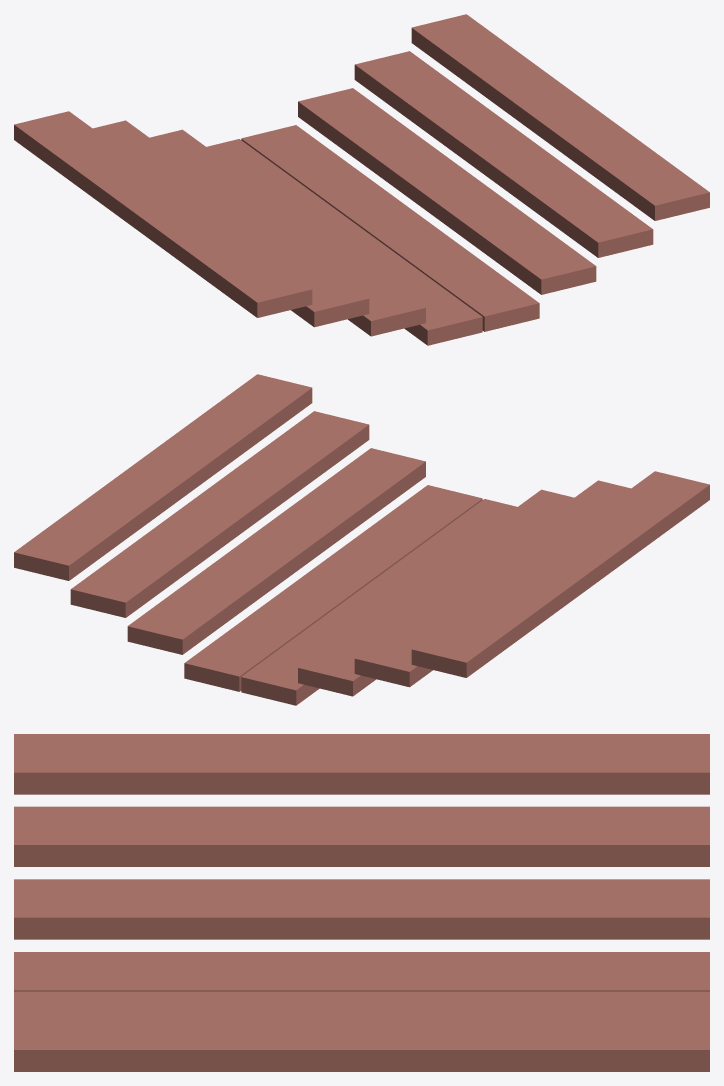
The model's file is iz2_roof_flat_parapet.glb.
3 views of the same model, one above another, from view 1: azimuth 30°, elevation 25°; view 2: azimuth 150°, elevation 25°; view 3: azimuth 270°, elevation 25° (orthographic). The views are drawn at different scales.
Visible parts, largest first — view 1: roof_06, roof_00, roof_05, roof_07, roof_04, roof_01, roof_03, roof_02; view 2: roof_06, roof_00, roof_05, roof_07, roof_04, roof_01, roof_03, roof_02; view 3: roof_00, roof_01, roof_02, roof_07, roof_03, roof_04, roof_05, roof_06.
Part boxes in pixels (bbox=[...]): roof_06: bbox=[354, 51, 653, 257]; roof_00: bbox=[14, 111, 312, 317]; roof_05: bbox=[298, 88, 596, 294]; roof_07: bbox=[411, 14, 709, 220]; roof_04: bbox=[241, 125, 539, 331]; roof_01: bbox=[93, 120, 369, 327]; roof_03: bbox=[207, 139, 482, 345]; roof_02: bbox=[150, 129, 425, 336]; roof_06: bbox=[70, 411, 369, 617]; roof_00: bbox=[411, 471, 709, 677]; roof_05: bbox=[127, 448, 425, 654]; roof_07: bbox=[14, 374, 312, 580]; roof_04: bbox=[184, 485, 482, 691]; roof_01: bbox=[354, 480, 630, 687]; roof_03: bbox=[241, 499, 516, 705]; roof_02: bbox=[298, 489, 573, 696]; roof_00: bbox=[14, 734, 709, 794]; roof_01: bbox=[14, 806, 709, 866]; roof_02: bbox=[14, 879, 709, 939]; roof_07: bbox=[14, 1011, 709, 1071]; roof_03: bbox=[14, 952, 709, 991]; roof_04: bbox=[14, 991, 709, 998]; roof_05: bbox=[14, 998, 709, 1004]; roof_06: bbox=[14, 1005, 709, 1011].
Bounding box in the file's own units: 2.46 × 0.44 × 2.29.
